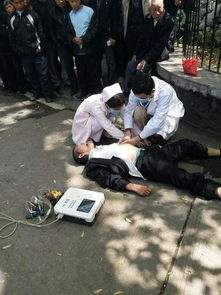falling: (67, 130, 221, 201)
